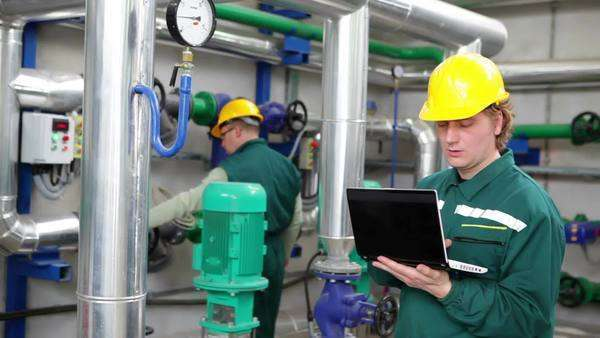Person_wearing_helmet: (414, 44, 509, 136), (209, 93, 271, 140)
